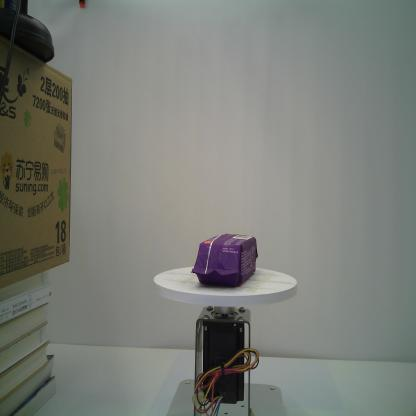Dessert: (191, 231, 260, 291)
